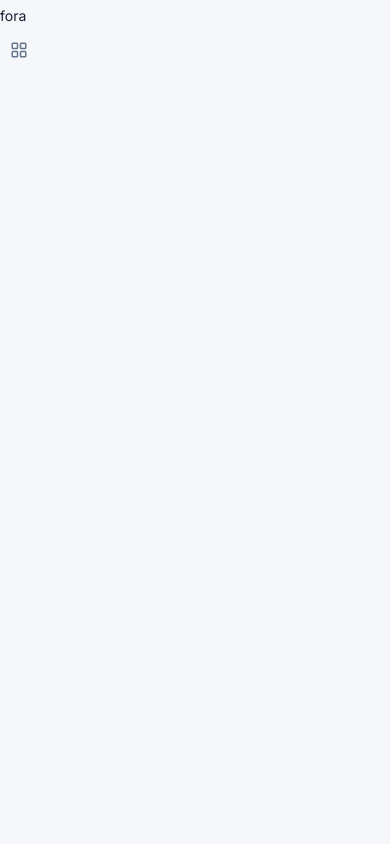
Test case: MenuDeFerramentas — permissão › função não autorizada não aparece no diretório NEM pela busca
Step 1. Click the button named "Todas as ferramentas" → click(19, 50), box [0,32,38,68]
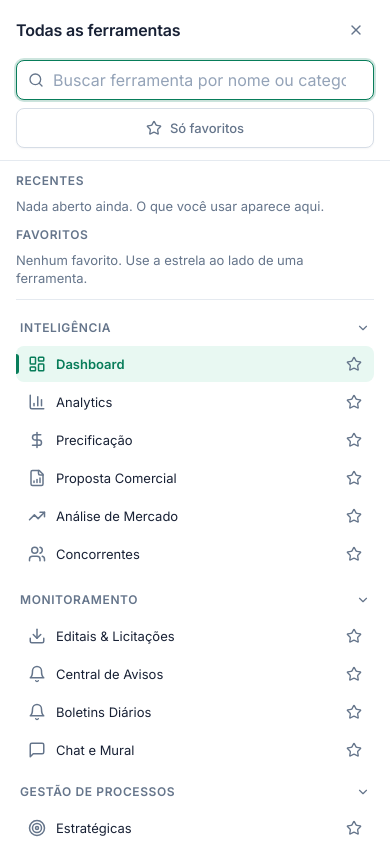
Step 2. Type "metricas" into the search field labelled "Buscar ferramenta" → (195, 80), box [16,60,374,100]
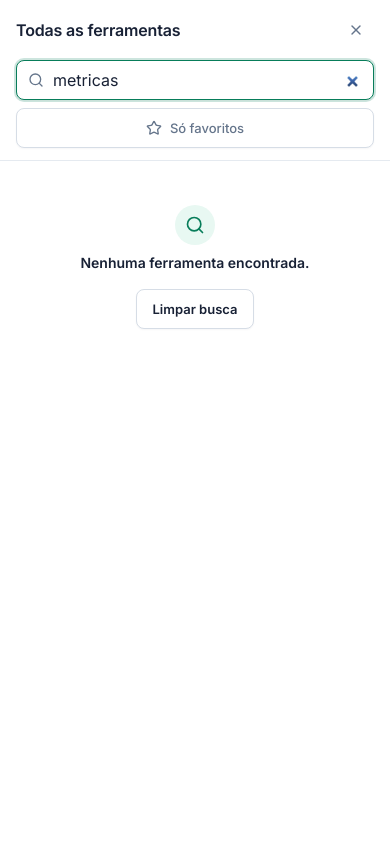
Check: the text "Nenhuma ferramenta encontrada." is shown, box [80,253,310,273]
